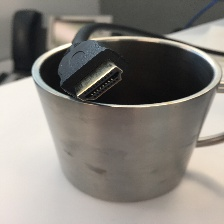hdmi_male: (55, 97, 136, 180)
